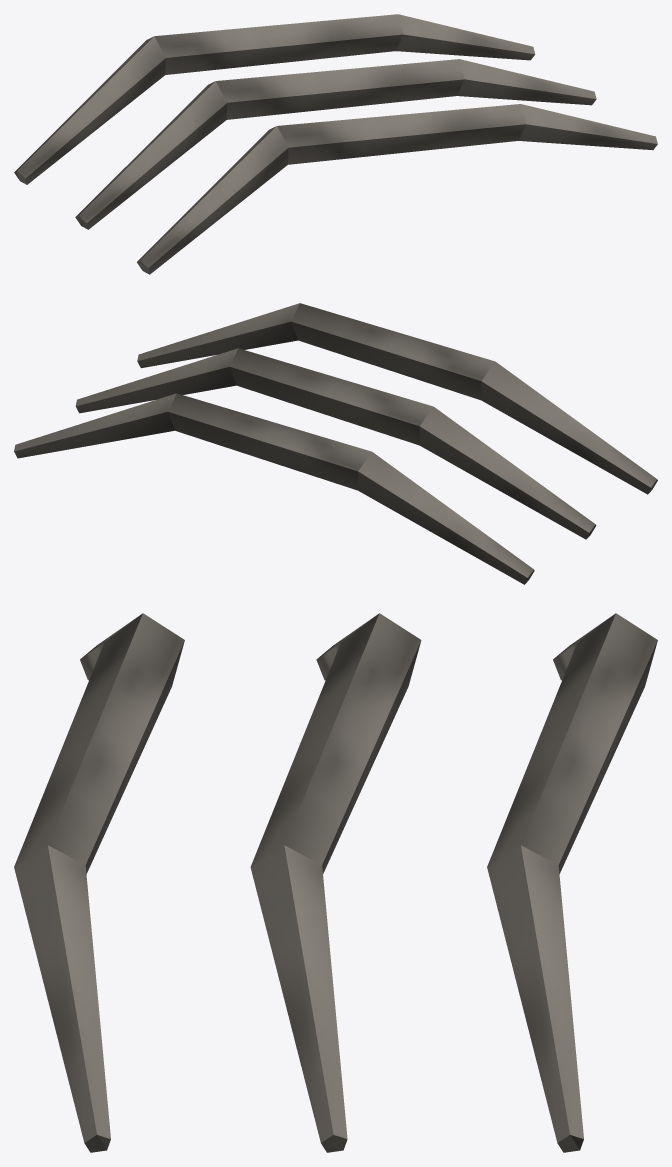
Rendered from SM_Roots02.fbx.
3 renders of one model, top to bottom at view 1: azimuth 30°, elevation 25°; view 2: azimuth 150°, elevation 25°; view 3: azimuth 270°, elevation 25°, orthographic. The views are drawn at different scales.
Visible parts, largest first — view 1: SM_Roots02; view 2: SM_Roots02; view 3: SM_Roots02.
Part boxes in pixels (x1,y1,x2,y2): SM_Roots02: (14, 14, 657, 274); SM_Roots02: (14, 303, 657, 584); SM_Roots02: (14, 613, 657, 1152).
Size of the model in its own units: 4.86 by 0.9349 by 2.72.
1 material, 1 textured.
